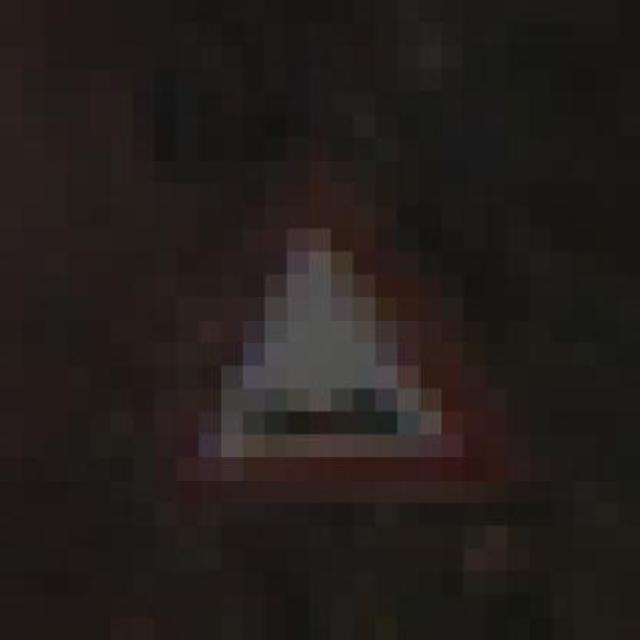Uneven Road: (132, 114, 530, 549)
